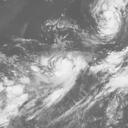cyclone: (46, 54, 84, 85), (93, 6, 123, 38)
